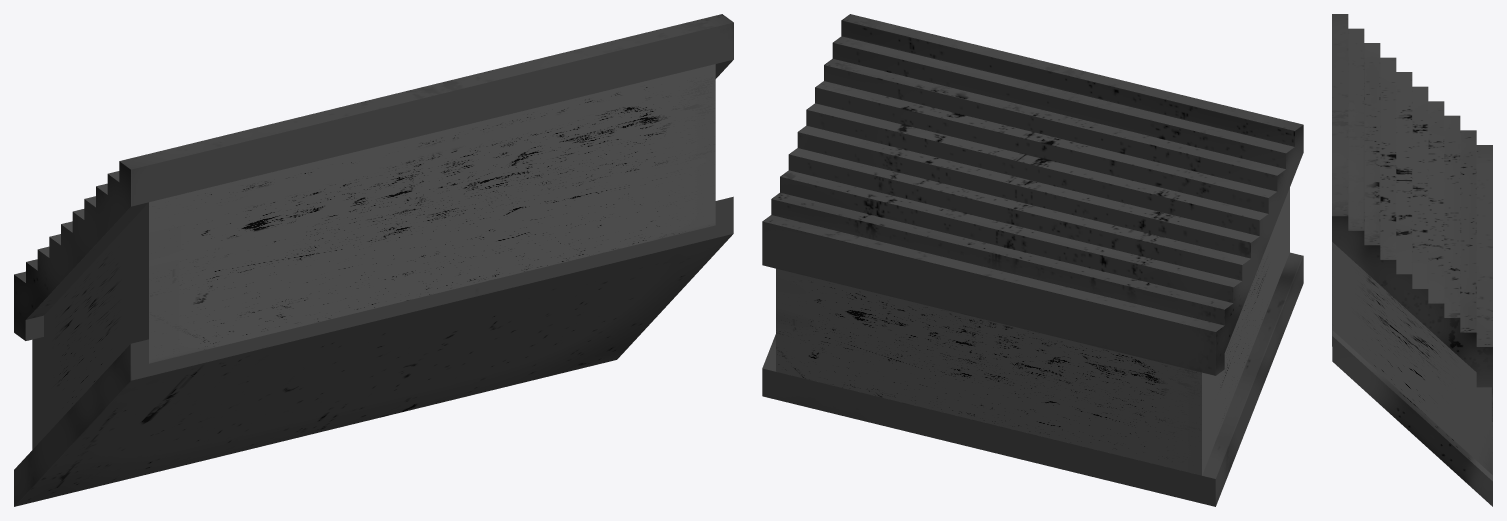
Rendered from Platform_1x3_Stair_V1.fbx.
The picture shows the model from 3 angles, left to right: view 1: azimuth 30°, elevation 25°; view 2: azimuth 150°, elevation 25°; view 3: azimuth 270°, elevation 25°; orthographic projection. The views are drawn at different scales.
Visible parts, largest first — view 1: Platform 1x3 Stair V1; view 2: Platform 1x3 Stair V1; view 3: Platform 1x3 Stair V1.
Part boxes in pixels (<box>): Platform 1x3 Stair V1: <box>14,14,733,506</box>; Platform 1x3 Stair V1: <box>762,14,1303,506</box>; Platform 1x3 Stair V1: <box>1332,14,1492,506</box>.
Size of the model in its own units: 298 by 200 by 100.
